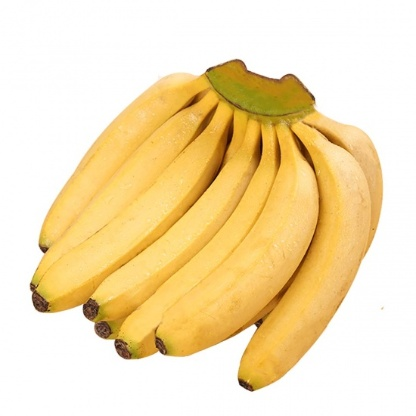chuoi: (24, 57, 393, 397)
